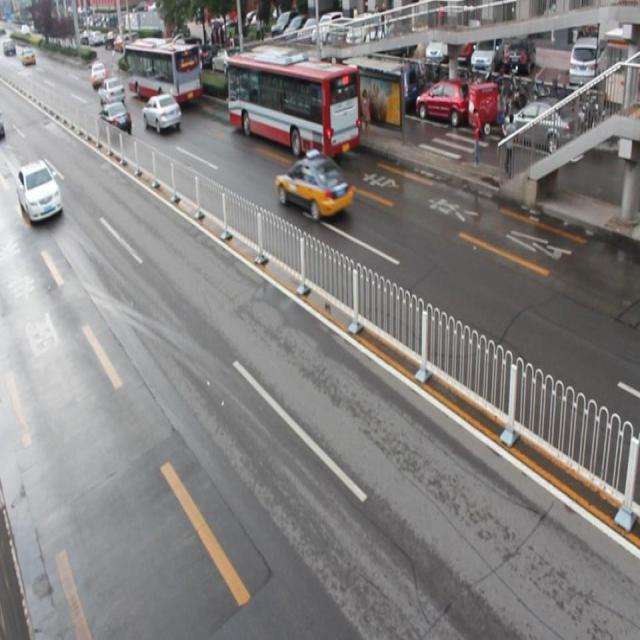car: (275, 152, 352, 220), (17, 158, 63, 222), (142, 92, 181, 133), (98, 100, 132, 139)
van: (228, 53, 359, 156), (125, 40, 202, 101)
